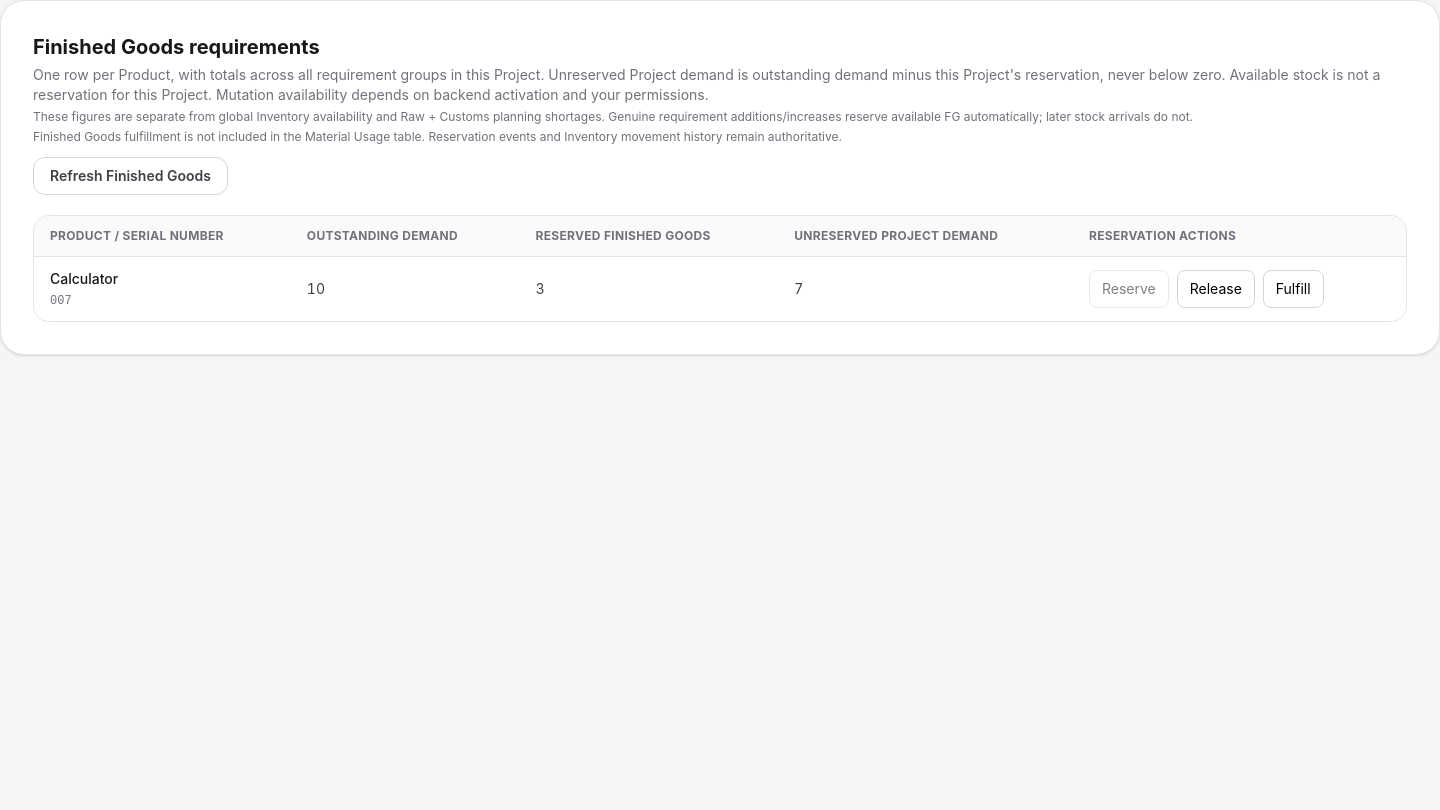
Test: Project Finished Goods mutation UI › locks ambiguous outcomes to exact retry and cannot Escape/cancel/edit into a new operation
Click the button with aria-label "Release Calculator" at {"x": 1216, "y": 289}, box [1177,270,1255,308]
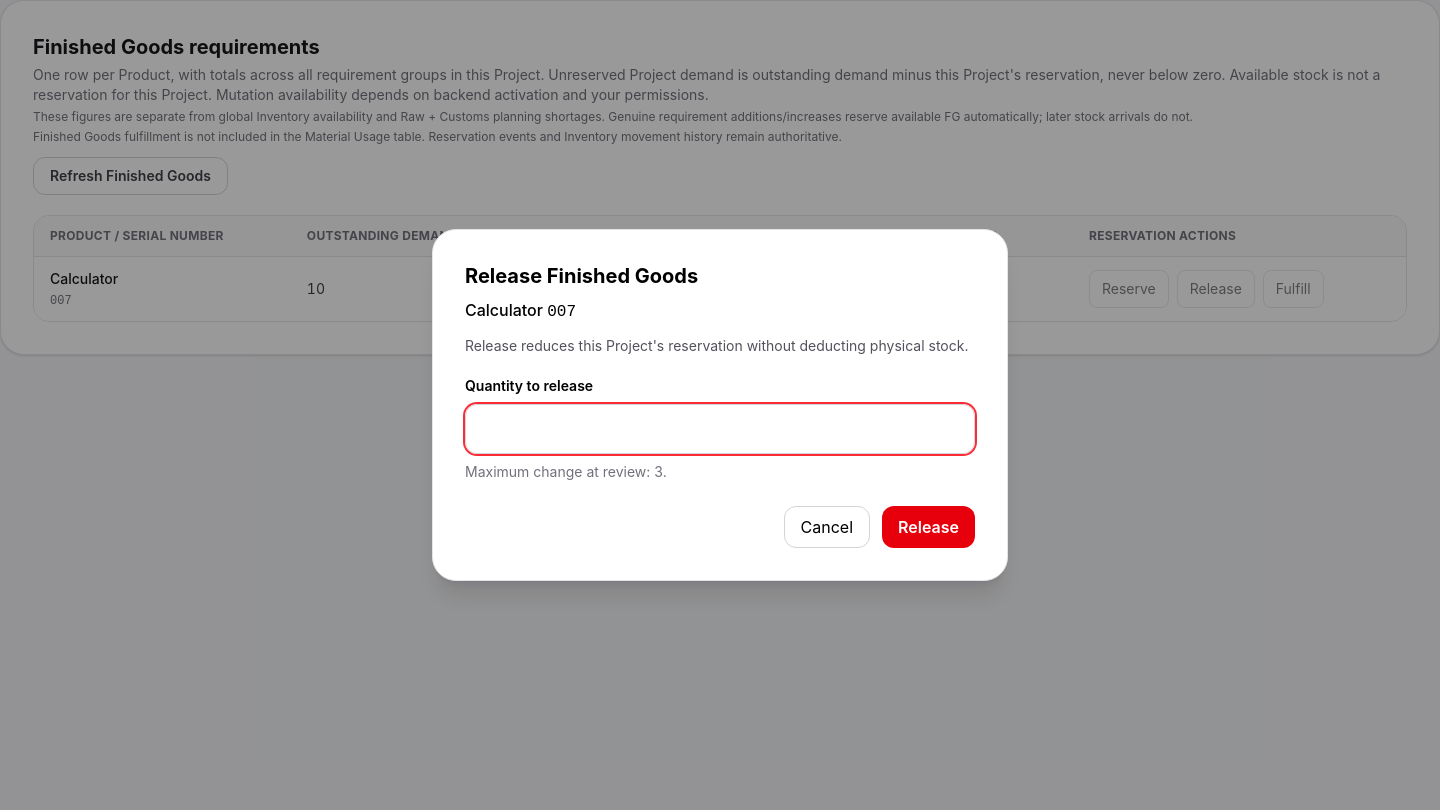
Type "2" into the field labelled "Quantity to release" at {"x": 720, "y": 429}, box [465,404,975,454]
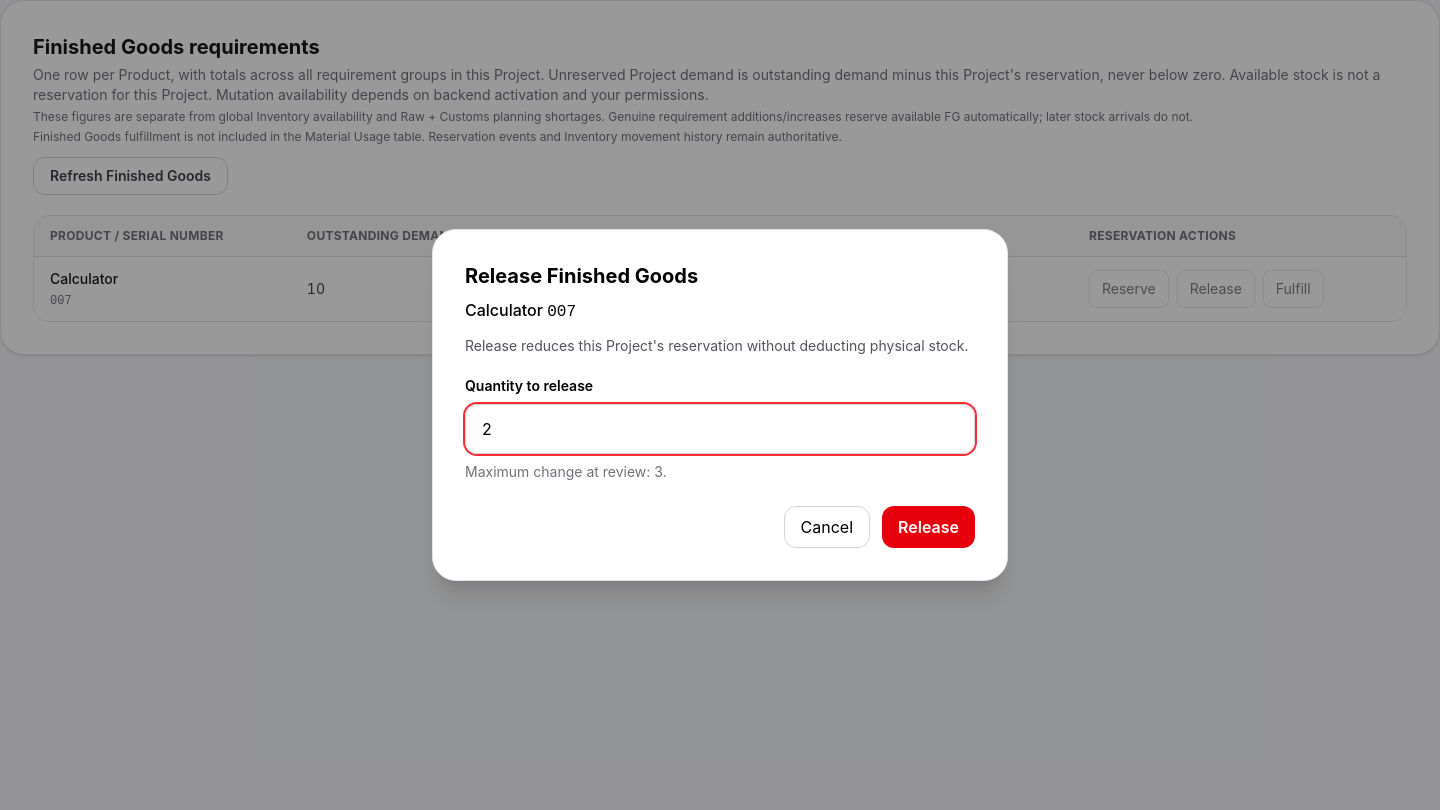
Click the button "Release" at {"x": 929, "y": 527}, box [882,506,975,548]
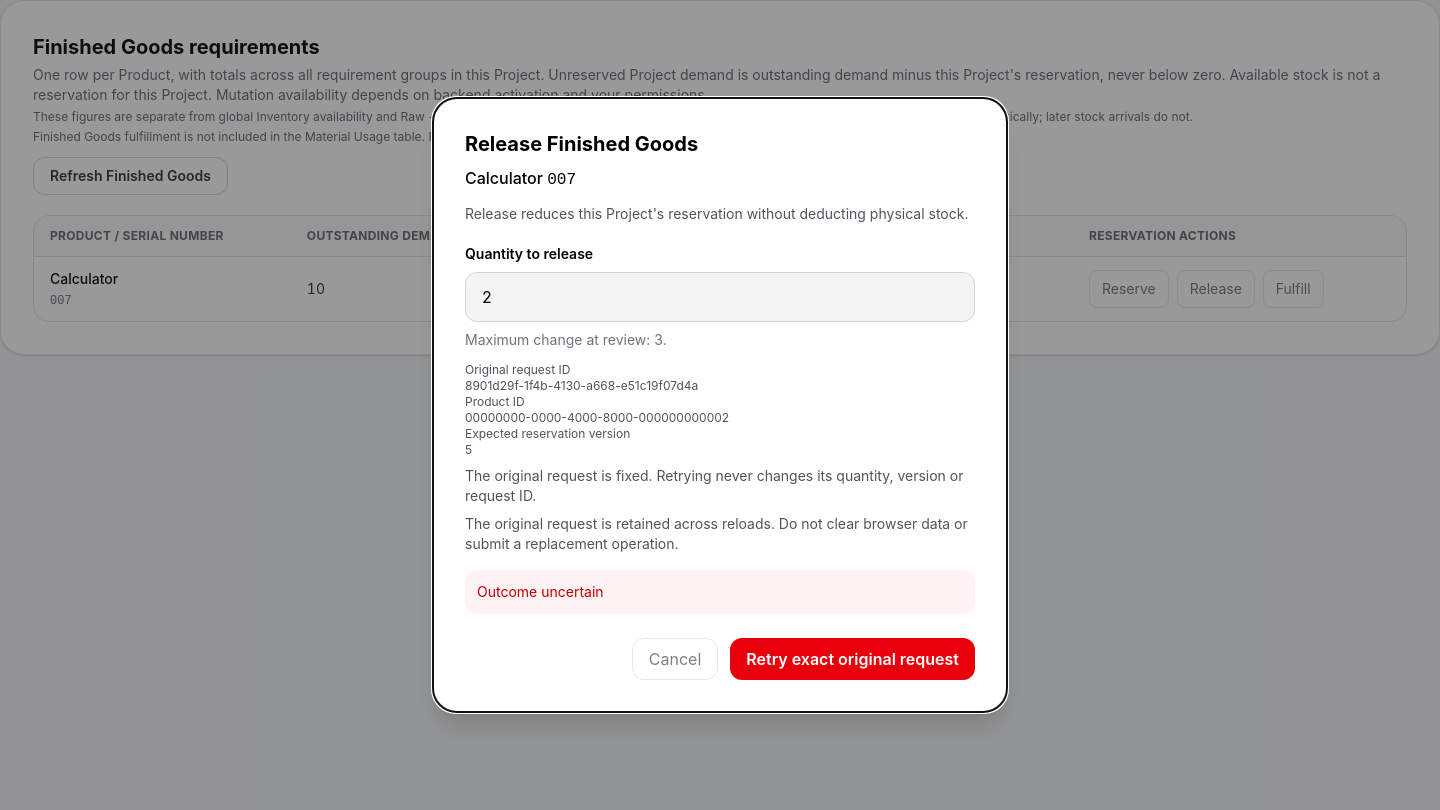
Expected: the button "Retry exact original request" is shown, [730,638,975,680]
Expected: the button "Cancel" is disabled, [632,638,718,680]
Expected: the field labelled "Quantity to release" is disabled, [465,272,975,322]
Press Escape
Expected: the dialog is shown, [432,97,1008,713]
Click the button "Retry exact original request" at {"x": 853, "y": 659}, box [730,638,975,680]
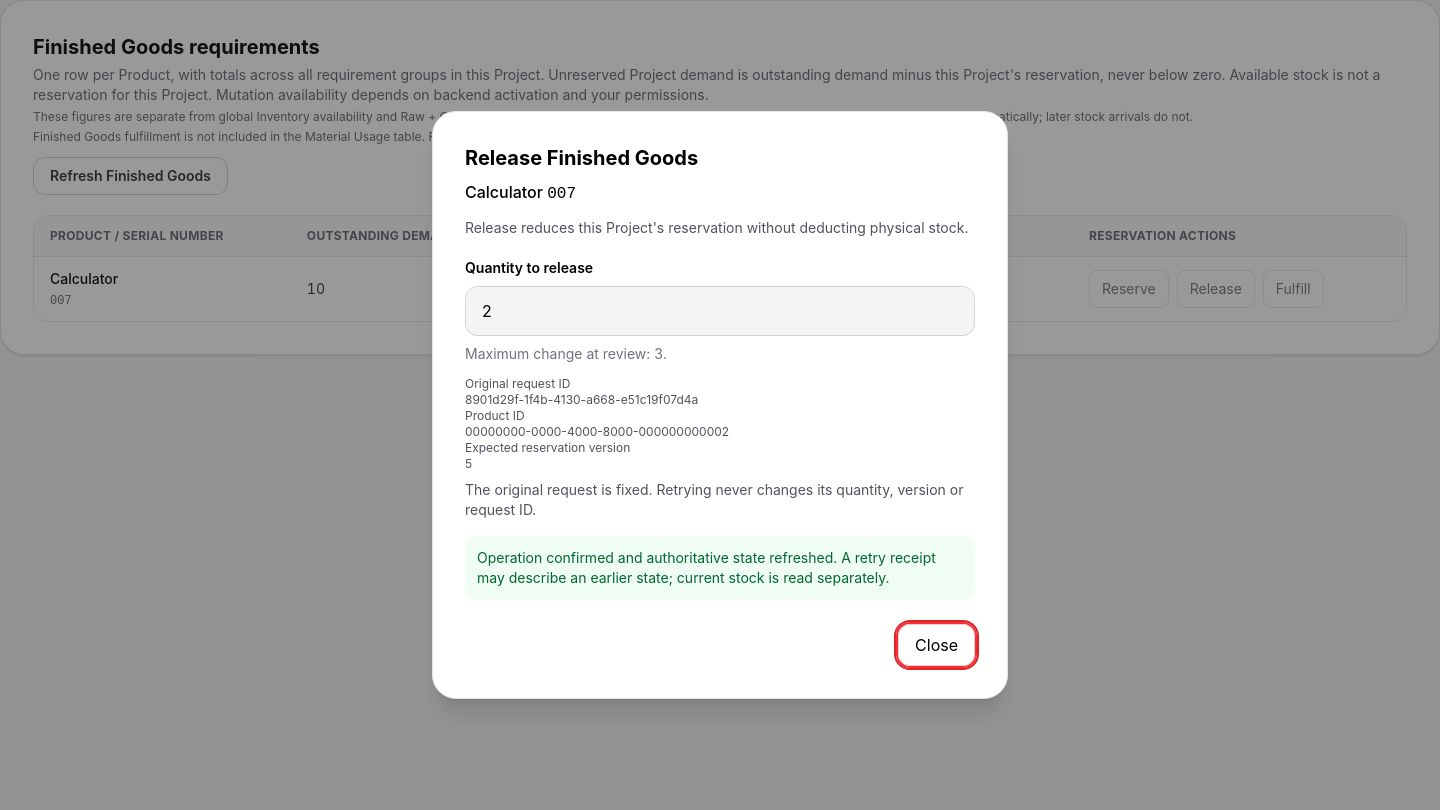
Expected: the text "Operation confirmed" is shown, [477,549,936,586]
